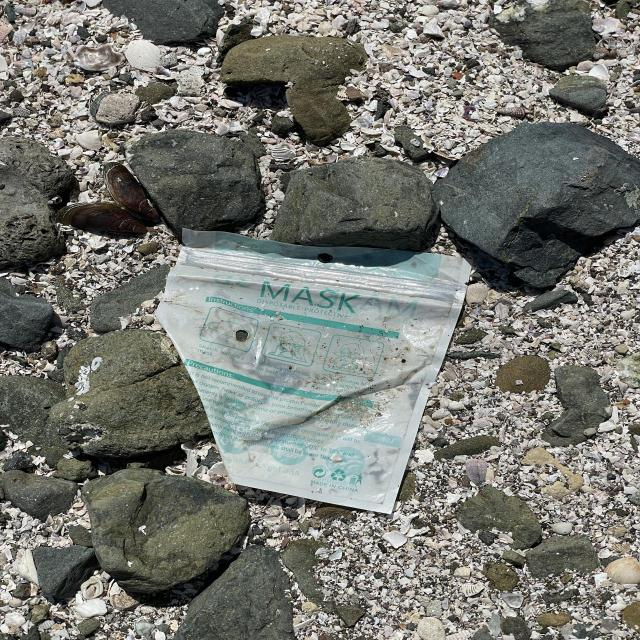plastic_waste: (152, 226, 472, 514), (468, 422, 471, 432)
